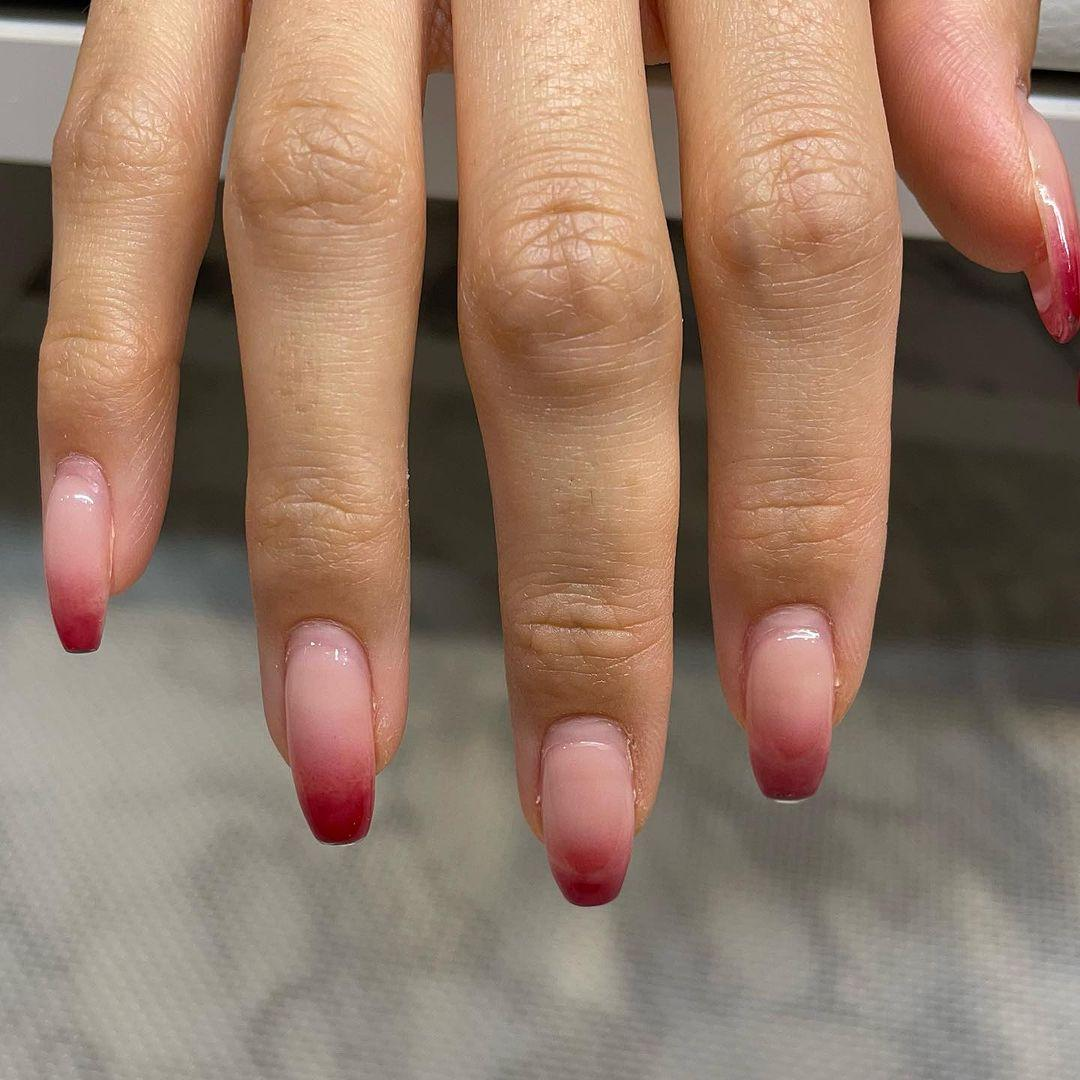nail: (281, 616, 377, 845), (740, 602, 837, 802), (536, 713, 636, 906), (41, 450, 113, 654), (1024, 117, 1079, 342)
